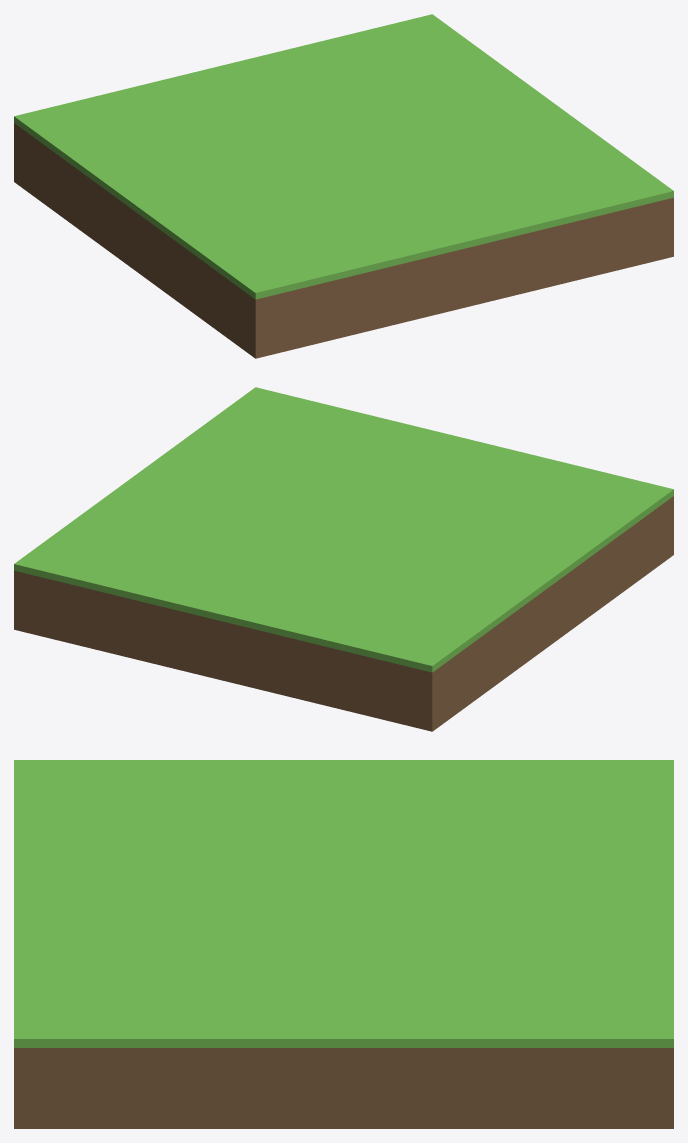
The model's file is kit-cidade-grama.glb.
The picture shows the model from 3 angles, top to bottom: view 1: azimuth 30°, elevation 25°; view 2: azimuth 150°, elevation 25°; view 3: azimuth 270°, elevation 25°; orthographic projection. The views are drawn at different scales.
Visible parts, largest first — view 1: corpo; view 2: corpo; view 3: corpo.
Boxes of the visible parts, bbox=[...] form: corpo: bbox=[14, 14, 673, 358]; corpo: bbox=[14, 387, 673, 731]; corpo: bbox=[14, 760, 673, 1128].
Bounding box in the file's own units: 2 × 0.3001 × 2.
